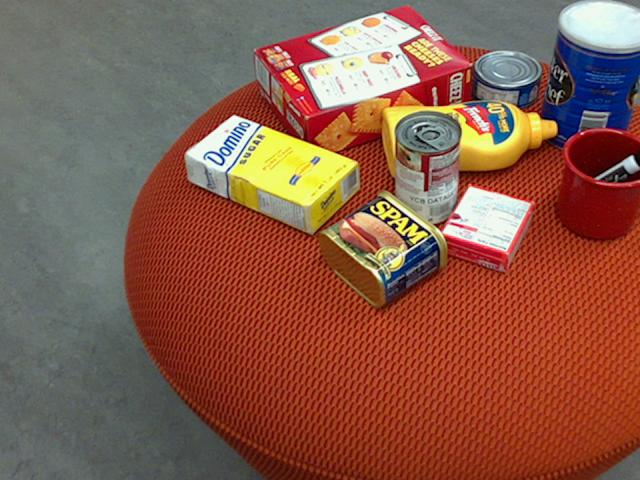cracker_box: (253, 4, 471, 159)
gelatin_box: (438, 185, 535, 274)
large_marker: (559, 148, 639, 211)
master_chef_can: (537, 0, 639, 155)
mug: (556, 126, 639, 239)
mustard_bottle: (381, 101, 556, 177)
potted_meat_can: (317, 189, 447, 307)
sugar_box: (182, 113, 358, 235)
tomato_soup_can: (392, 108, 460, 225)
tuna_fish_can: (469, 50, 541, 108)
